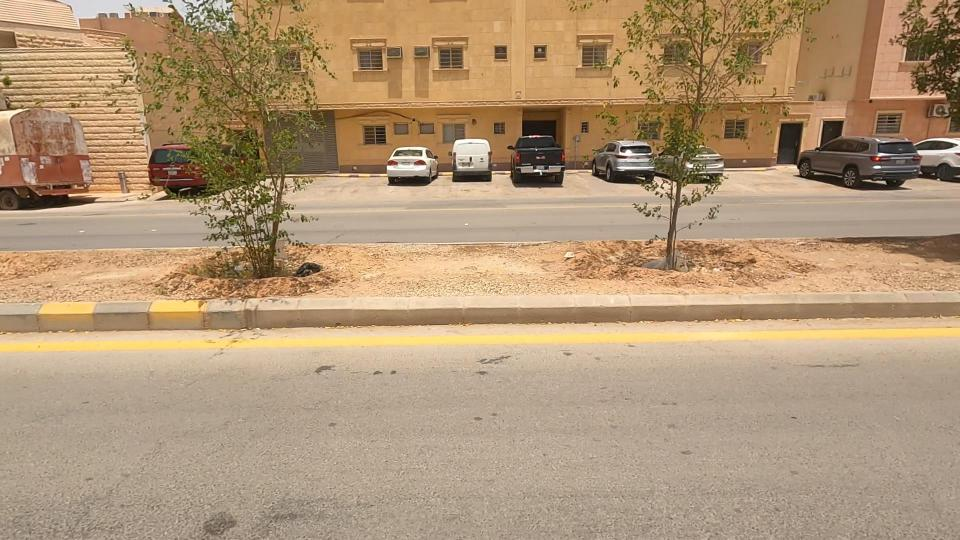GARBAGE: (248, 227, 377, 314)
